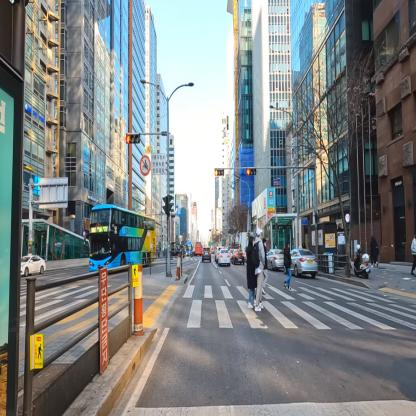red: (124, 132, 140, 146), (214, 168, 226, 178), (246, 169, 257, 176)
